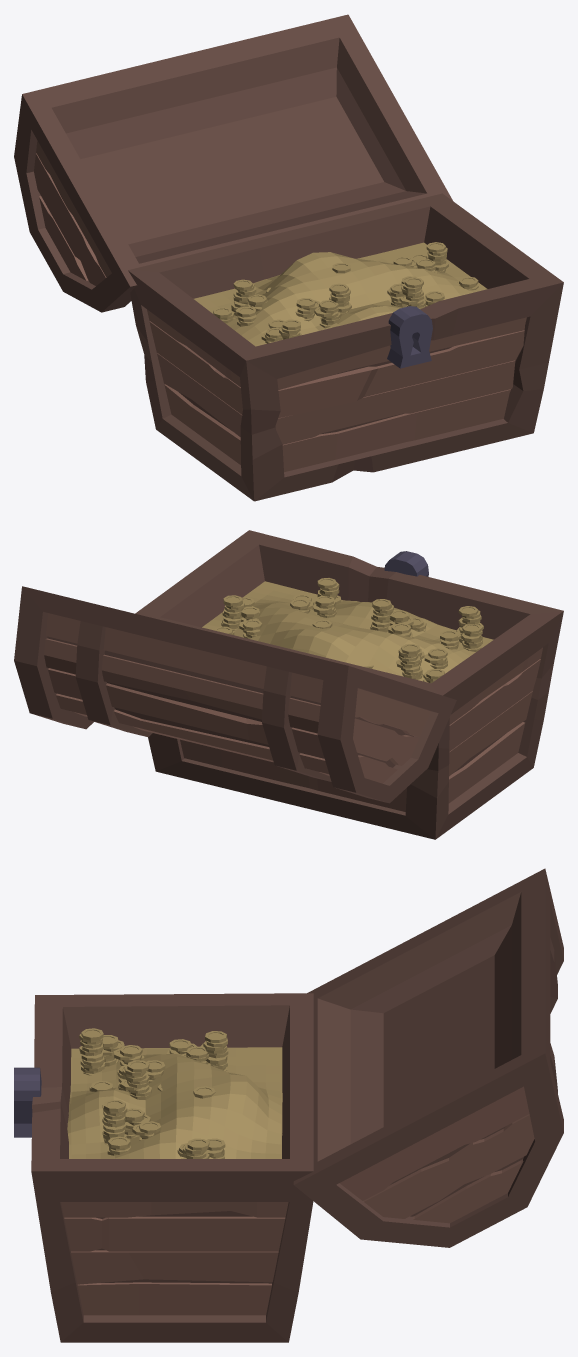
The model's file is Chest_Gold.glb.
3 views of the same model, one above another, from view 1: azimuth 30°, elevation 25°; view 2: azimuth 150°, elevation 25°; view 3: azimuth 270°, elevation 25° (orthographic). The views are drawn at different scales.
Parts seen in each view (by area): view 1: Chest_Base, Chest_Top; view 2: Chest_Base, Chest_Top; view 3: Chest_Base, Chest_Top.
Part boxes in pixels (left/top/right/bottom): Chest_Base: left=128, top=193, right=563, bottom=501; Chest_Top: left=14, top=14, right=452, bottom=312; Chest_Base: left=135, top=530, right=563, bottom=839; Chest_Top: left=14, top=586, right=456, bottom=803; Chest_Base: left=14, top=993, right=313, bottom=1342; Chest_Top: left=293, top=868, right=563, bottom=1247.
Bounding box in the file's own units: 1.18 × 0.8994 × 1.48.
